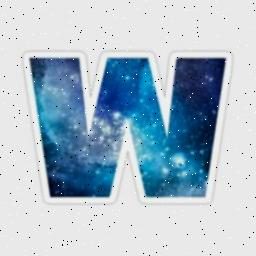w: (14, 38, 240, 214)
